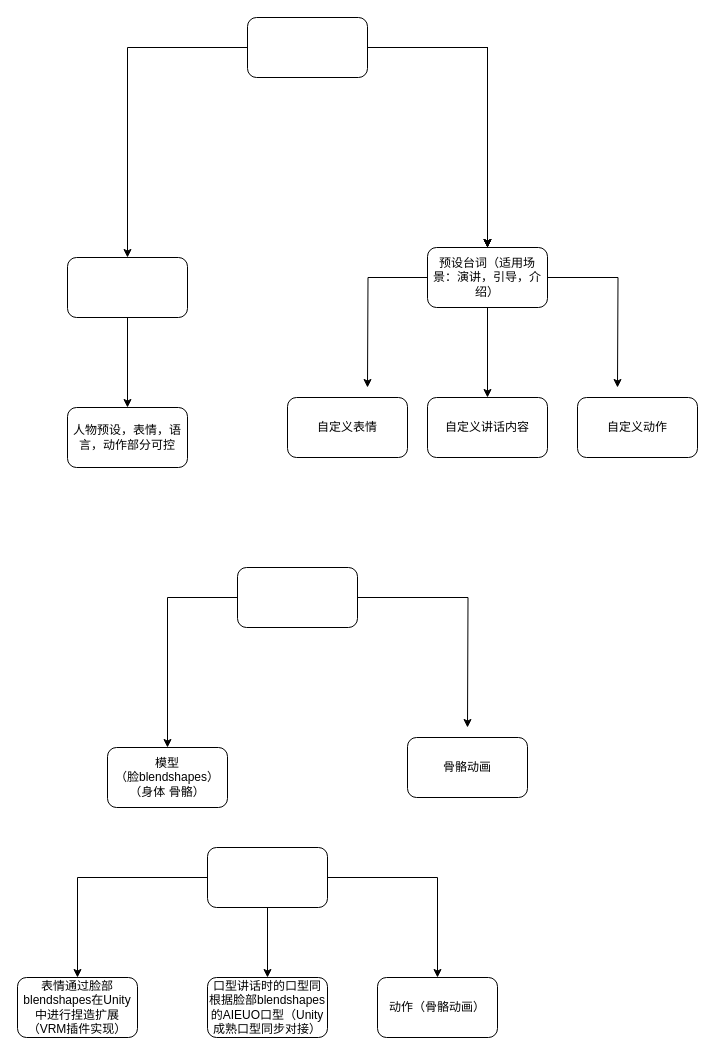
The diagram is 715 pixels wide and 1055 high, and some of its shapes have lost their labels. Here are the shapes that lost their labels. From the top down, the centre of each, then its label:
At (307,47): "数字人".
At (127,287): "智能对话（接入第三方AI如 讯飞，百度，chatGpt）".
At (297,597): "资源".
At (267,877): "资源结构组成".
